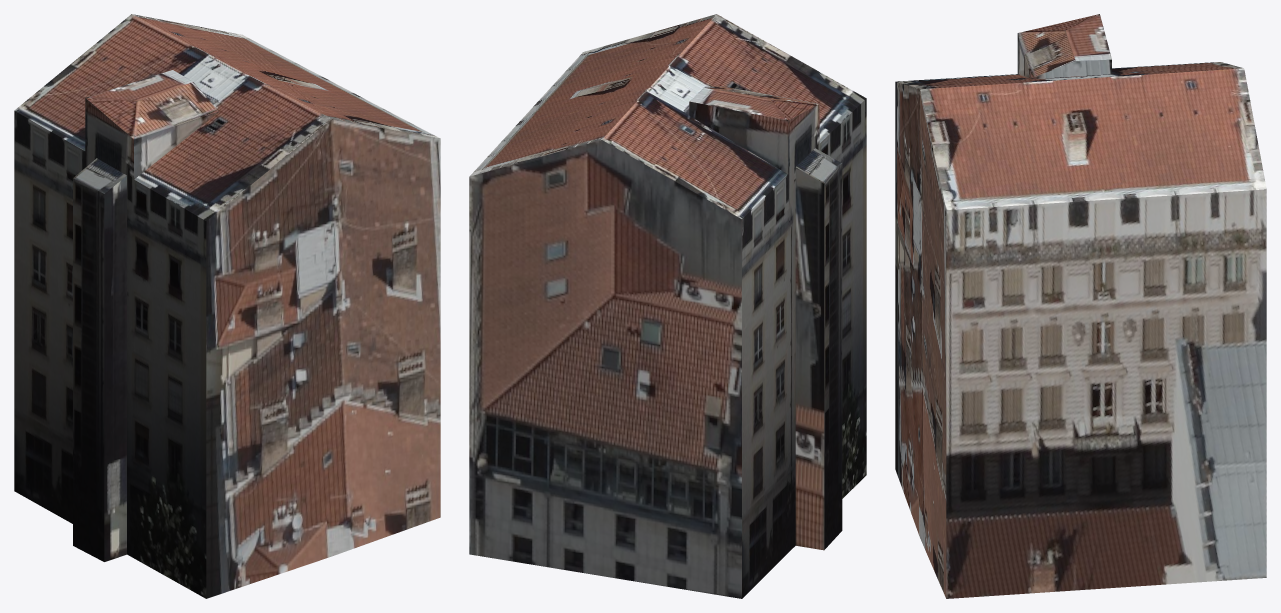
The picture shows the model from 3 angles, left to right: view 1: azimuth 30°, elevation 25°; view 2: azimuth 150°, elevation 25°; view 3: azimuth 270°, elevation 25°; orthographic projection. The views are drawn at different scales.
Visible parts, largest first — view 1: Z_UP; view 2: Z_UP; view 3: Z_UP.
Boxes of the visible parts, bbox=[...] form: Z_UP: bbox=[14, 14, 440, 598]; Z_UP: bbox=[469, 14, 866, 598]; Z_UP: bbox=[895, 14, 1266, 598].
Size of the model in its own units: 19.34 by 26.52 by 19.89.
2 materials, 1 textured.
